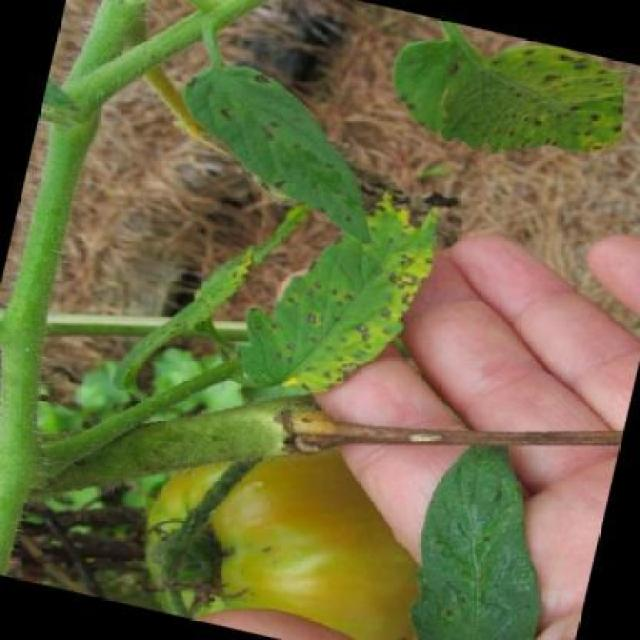Septoria leaf spot: (235, 169, 451, 436), (324, 6, 639, 183), (157, 55, 403, 244)
